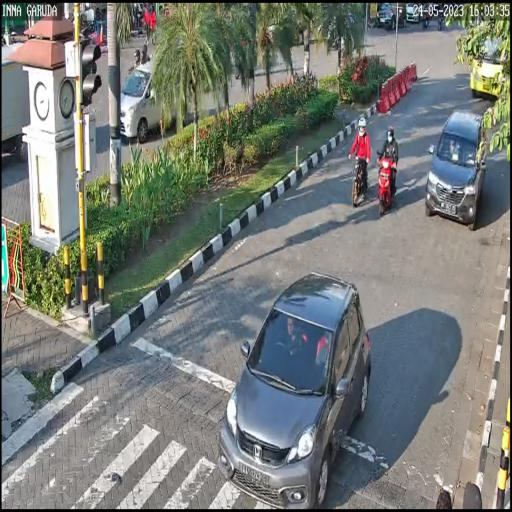mobil: (220, 276, 371, 506), (425, 106, 486, 229)
motor: (376, 149, 396, 219), (347, 152, 369, 208)
